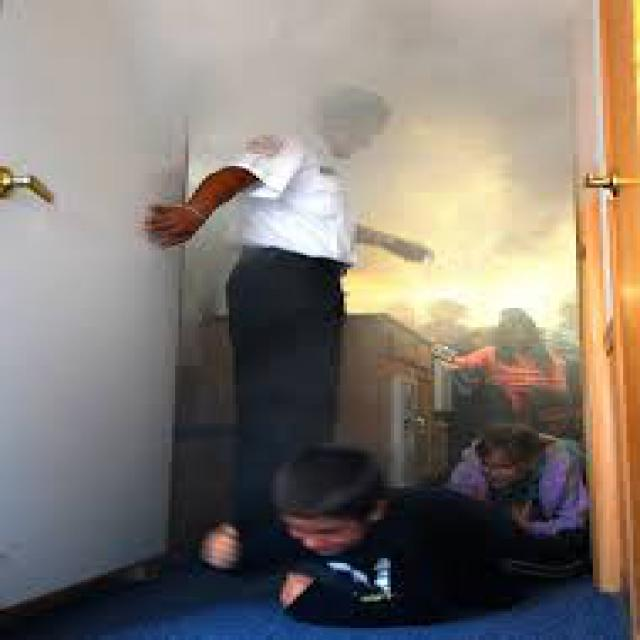smoke: (175, 2, 590, 258)
